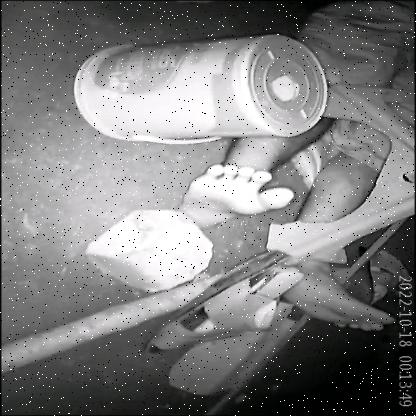leg: (169, 136, 309, 231), (274, 260, 398, 336)
